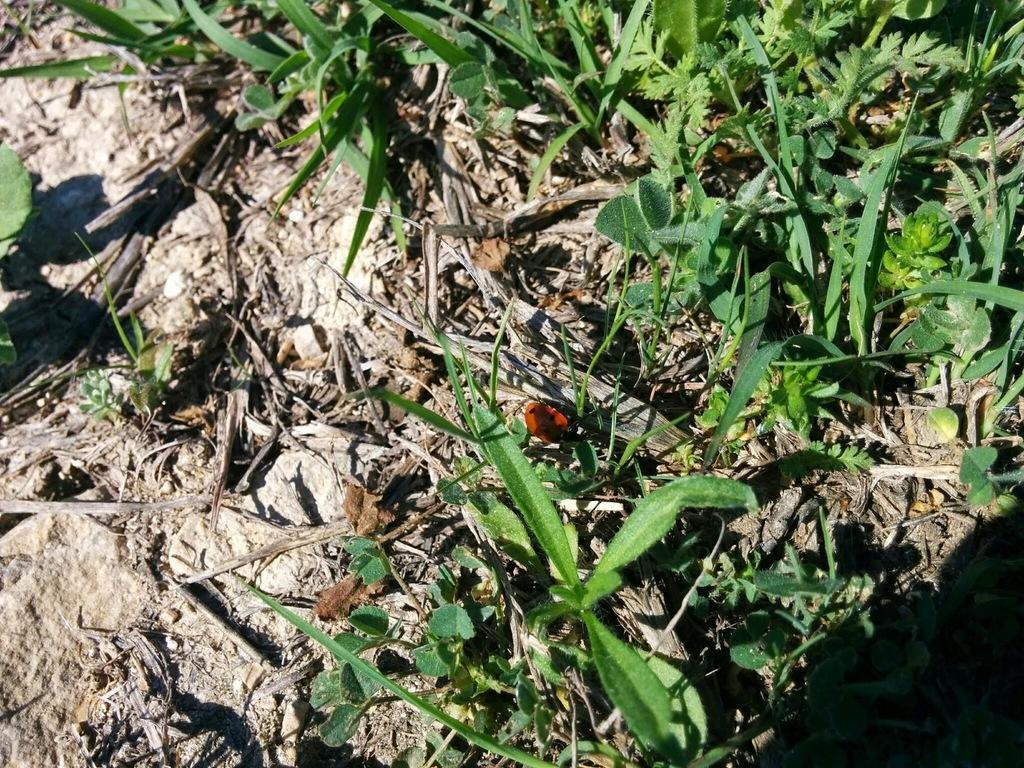ladybug: (524, 399, 595, 454)
